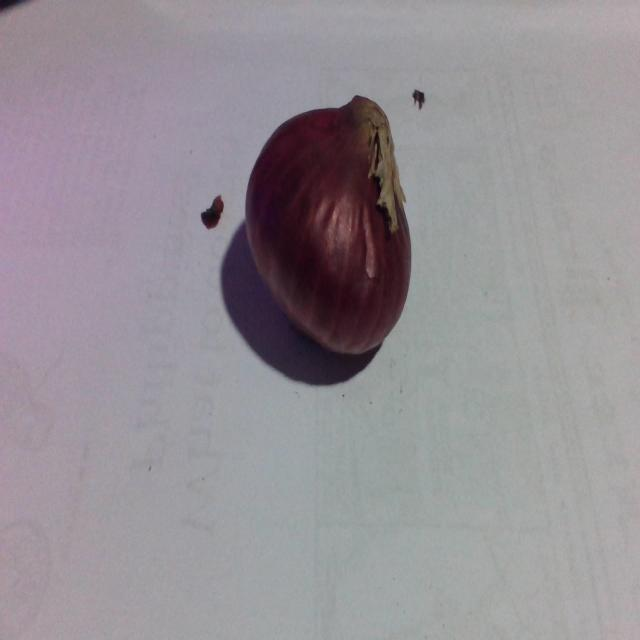onion: (242, 39, 430, 390)
